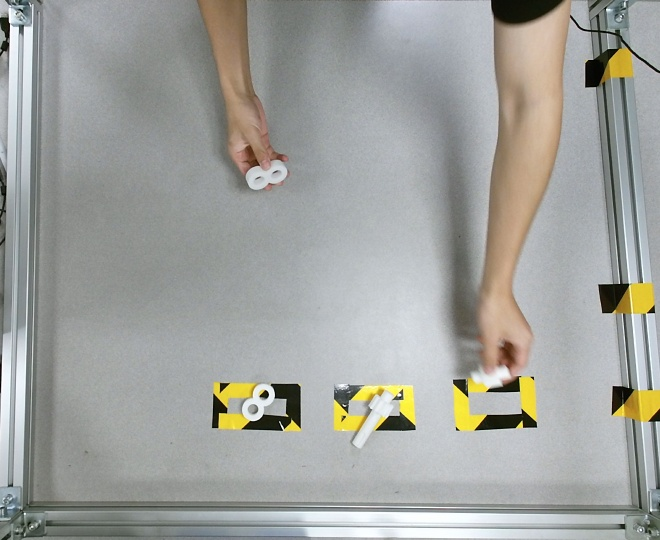stage_1: (246, 159, 287, 190)
